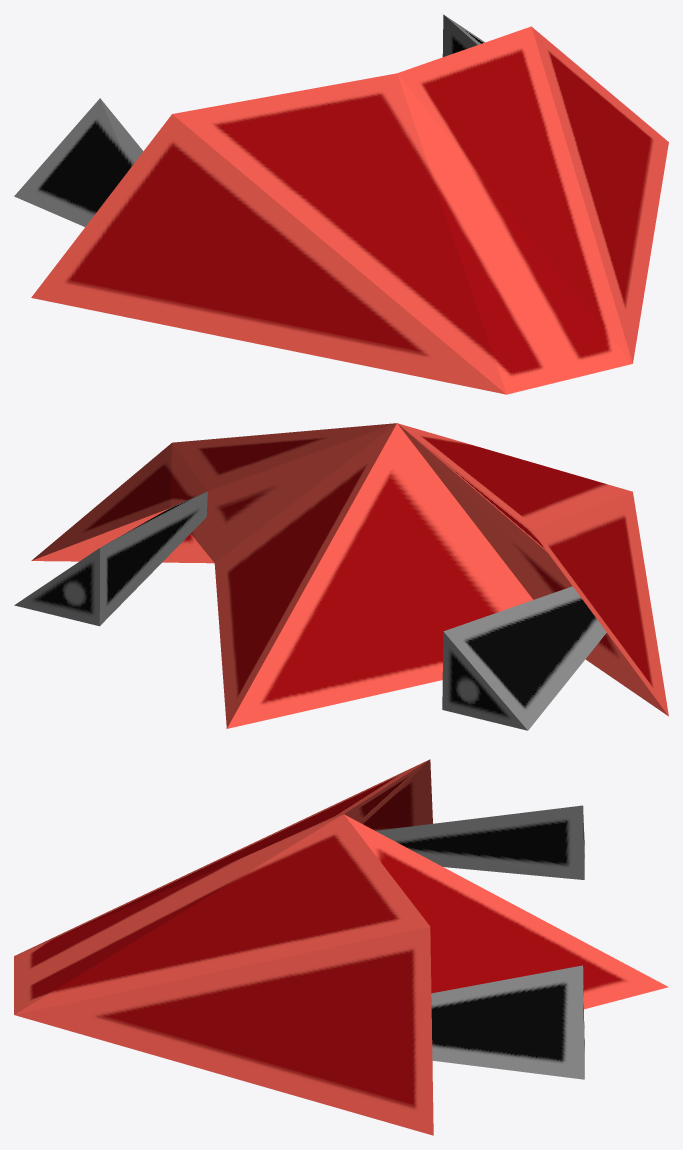
Rendered from Tank.dae.
3 views of the same model, one above another, from view 1: azimuth 30°, elevation 25°; view 2: azimuth 150°, elevation 25°; view 3: azimuth 270°, elevation 25° (orthographic). The views are drawn at different scales.
Visible parts, largest first — view 1: Cone; view 2: Cone; view 3: Cone.
Part boxes in pixels (bbox=[...]): Cone: bbox=[14, 14, 668, 394]; Cone: bbox=[14, 423, 668, 730]; Cone: bbox=[14, 759, 668, 1135].
Size of the model in its own units: 3.09 by 2.88 by 0.8381.
Materials: 1 (1 with a texture image).
